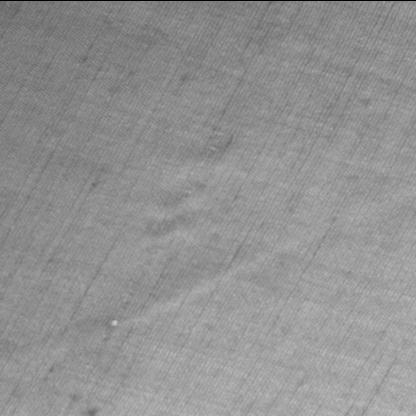hole: (109, 318, 122, 326)
